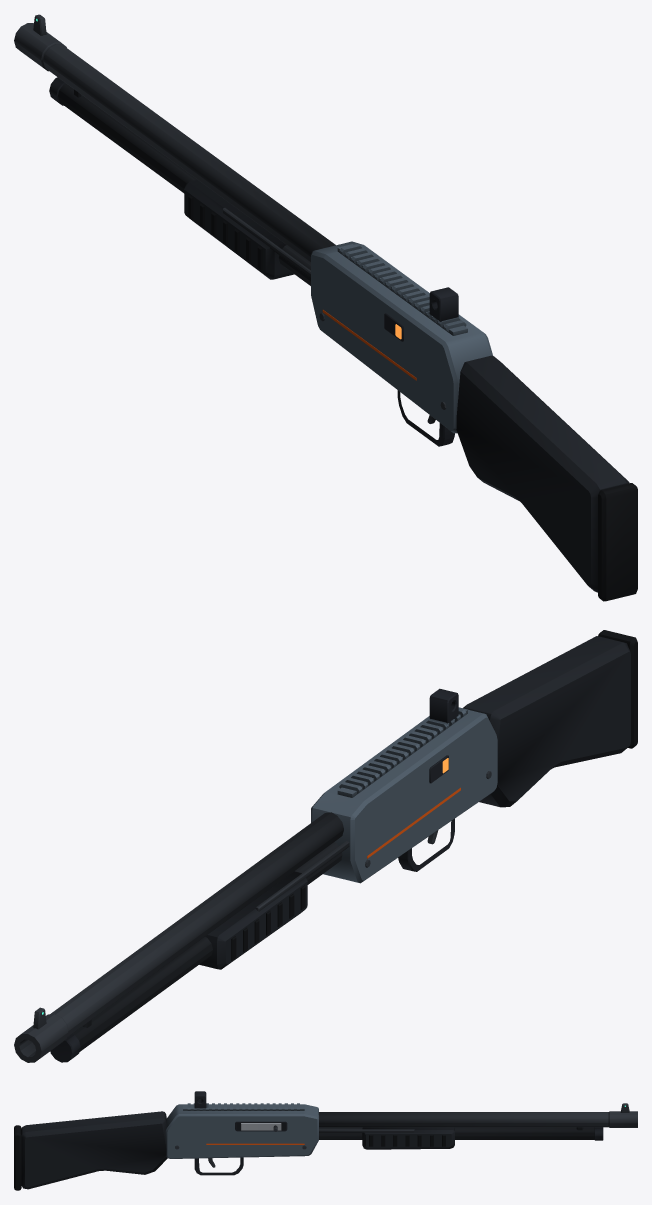
3 renders of one model, top to bottom at view 1: azimuth 30°, elevation 25°; view 2: azimuth 150°, elevation 25°; view 3: azimuth 270°, elevation 25°, orthographic. The views are drawn at different scales.
Parts seen in each view (by area): view 1: body_furn, body_frame, body_steel, body_rubber, pump_furn, body_frame2, pump_rubber; view 2: body_frame, body_furn, body_steel, pump_furn, body_frame2, body_rubber, pump_rubber, pump_steel; view 3: body_furn, body_frame, body_steel, pump_furn, body_frame2, body_rubber, pump_rubber, pump_steel, bolt_bolt, body_accent.
Part boxes in pixels (x1=…): body_furn: x1=456, y1=355, x2=629, y2=592; body_frame: x1=311, y1=241, x2=492, y2=433; body_steel: x1=14, y1=14, x2=446, y2=423; body_rubber: x1=598, y1=483, x2=637, y2=601; pump_furn: x1=184, y1=179, x2=294, y2=279; body_frame2: x1=49, y1=77, x2=458, y2=446; pump_rubber: x1=188, y1=195, x2=262, y2=270; body_frame: x1=311, y1=707, x2=497, y2=883; body_furn: x1=463, y1=636, x2=630, y2=807; body_steel: x1=14, y1=771, x2=491, y2=1062; pump_furn: x1=199, y1=871, x2=307, y2=969; body_frame2: x1=50, y1=688, x2=458, y2=1062; body_rubber: x1=598, y1=630, x2=637, y2=748; pump_rubber: x1=231, y1=885, x2=305, y2=960; pump_steel: x1=255, y1=841, x2=349, y2=911; body_furn: x1=21, y1=1111, x2=167, y2=1189; body_frame: x1=165, y1=1103, x2=318, y2=1158; body_steel: x1=175, y1=1103, x2=637, y2=1167; pump_furn: x1=362, y1=1127, x2=454, y2=1149; body_frame2: x1=194, y1=1091, x2=603, y2=1175; body_rubber: x1=14, y1=1125, x2=21, y2=1190; pump_rubber: x1=369, y1=1135, x2=445, y2=1146; pump_steel: x1=319, y1=1129, x2=414, y2=1132; bolt_bolt: x1=241, y1=1123, x2=281, y2=1130; body_accent: x1=206, y1=1143, x2=304, y2=1144.
Size of the model in its own units: 0.065 by 0.178 by 1.08.
